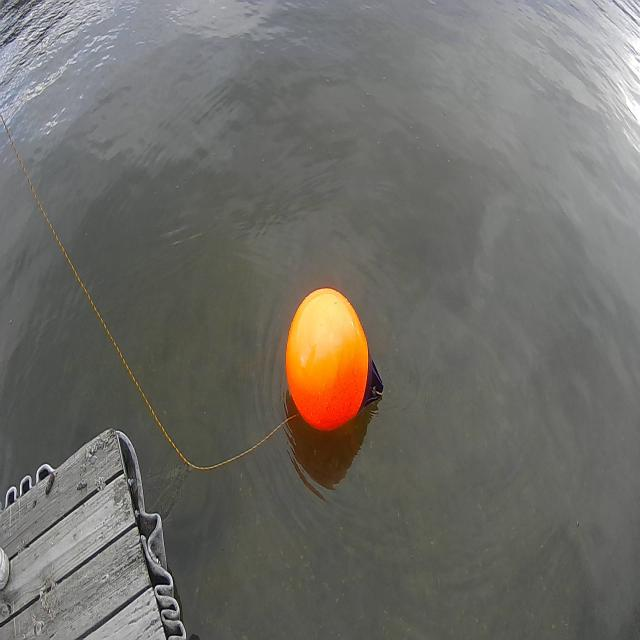Buoy: (278, 279, 388, 446)
